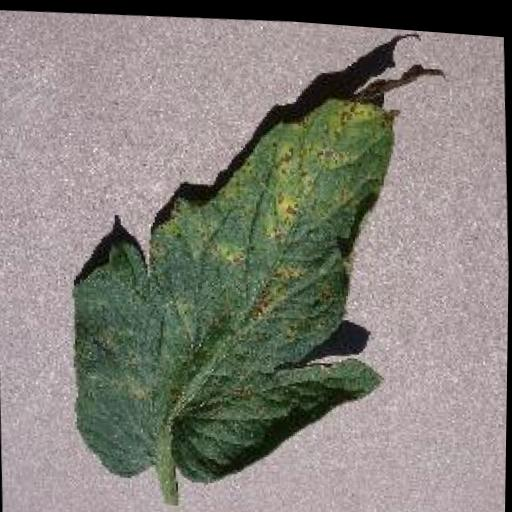Septoria: (56, 34, 463, 500)
